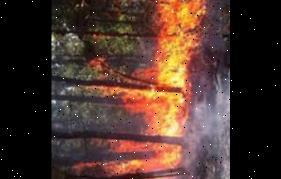fire: (82, 0, 208, 179)
